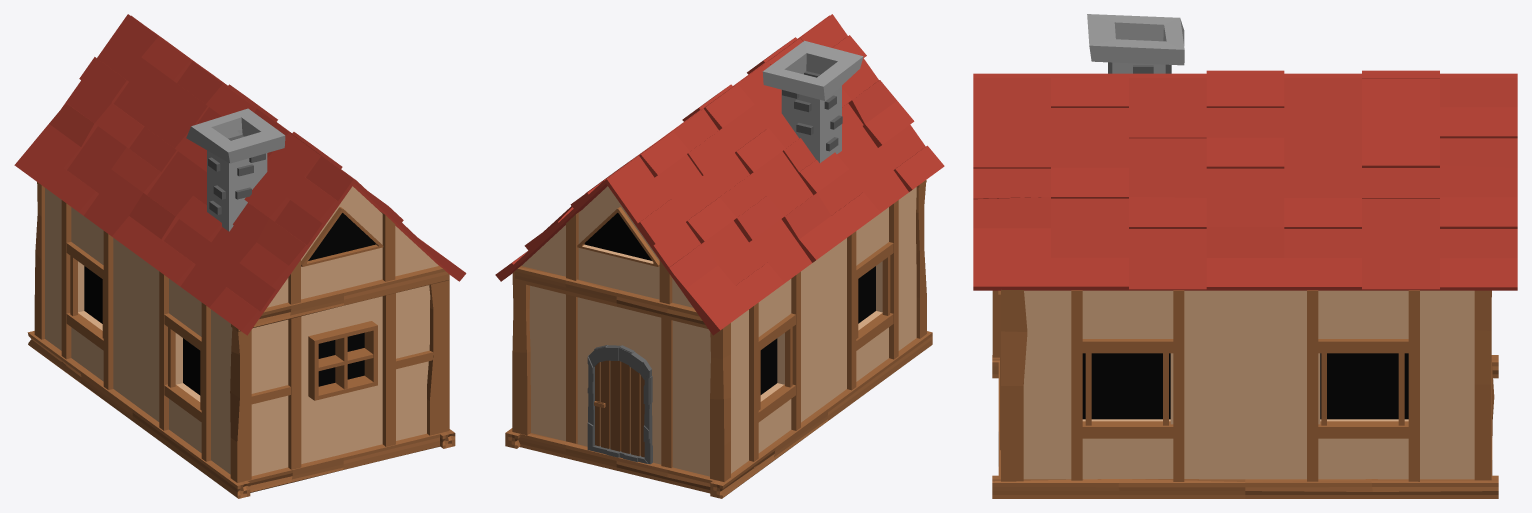
File: house medieval1.glb
3 views of the same model, side by side, from view 1: azimuth 30°, elevation 25°; view 2: azimuth 150°, elevation 25°; view 3: azimuth 270°, elevation 25° (orthographic). The views are drawn at different scales.
Visible parts, largest first — view 1: Roof-col, TopFloor-col, Karkas-col, Chimney-col, Bricks; view 2: Roof-col, TopFloor-col, Karkas-col, Door-col, Chimney-col, Bricks; view 3: Roof-col, TopFloor-col, Karkas-col, Chimney-col.
Boxes of the visible parts, x1,y1,x2,y2 form: Roof-col: [14, 14, 466, 335]; TopFloor-col: [45, 186, 438, 476]; Karkas-col: [27, 182, 455, 498]; Chimney-col: [186, 108, 285, 231]; Bricks: [208, 135, 265, 214]; Roof-col: [495, 14, 944, 335]; TopFloor-col: [521, 186, 916, 476]; Karkas-col: [505, 180, 932, 498]; Door-col: [587, 345, 652, 464]; Chimney-col: [762, 40, 863, 162]; Bricks: [782, 71, 842, 151]; Roof-col: [973, 70, 1517, 290]; TopFloor-col: [992, 290, 1474, 479]; Karkas-col: [992, 289, 1498, 498]; Chimney-col: [1087, 14, 1184, 73].
Bounding box in the file's own units: 7.62 × 10.05 × 13.14.
